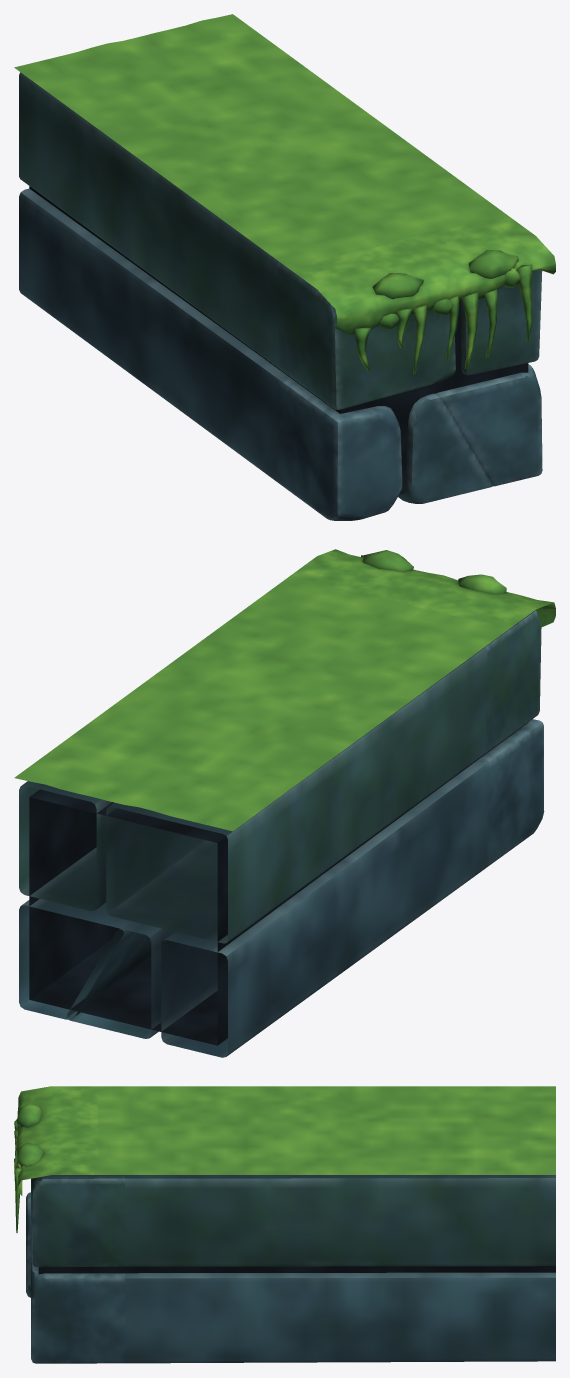
The model's file is ENV_StoneTop_A.fbx.
3 views of the same model, one above another, from view 1: azimuth 30°, elevation 25°; view 2: azimuth 150°, elevation 25°; view 3: azimuth 270°, elevation 25° (orthographic). The views are drawn at different scales.
Parts seen in each view (by area): view 1: ENV_StoneTop_A; view 2: ENV_StoneTop_A; view 3: ENV_StoneTop_A.
Part boxes in pixels (bbox=[...]): ENV_StoneTop_A: bbox=[14, 14, 555, 520]; ENV_StoneTop_A: bbox=[14, 549, 555, 1057]; ENV_StoneTop_A: bbox=[14, 1086, 555, 1363].
Bounding box in the file's own units: 1 × 1.04 × 2.58.
